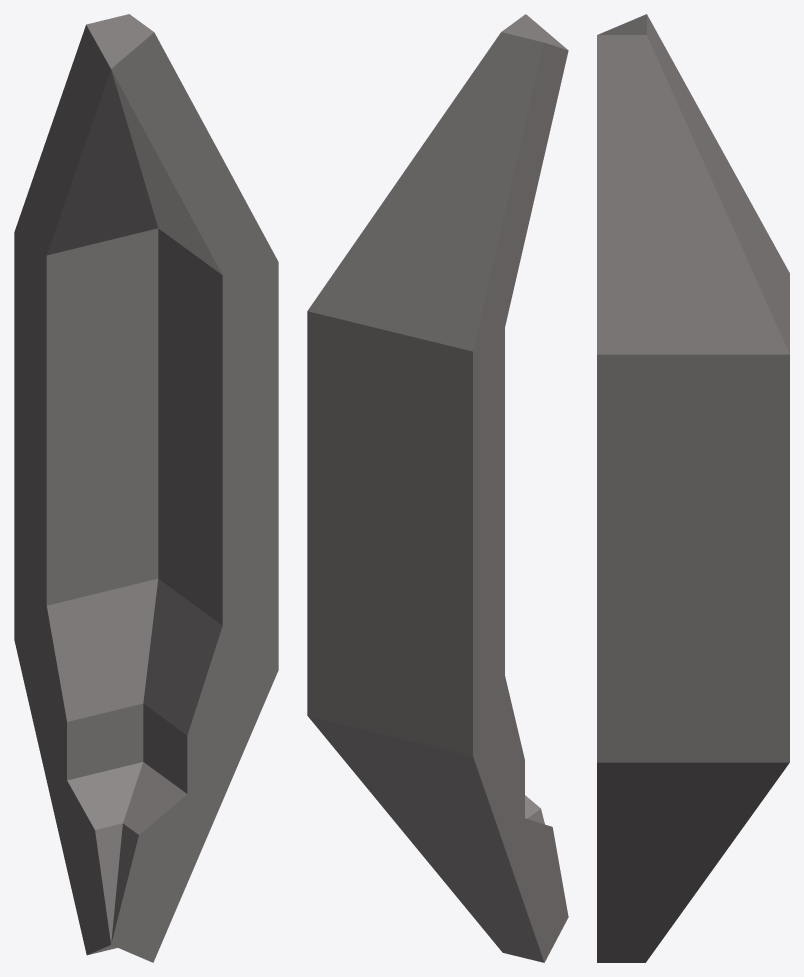
Rendered from scifi-wall-corridor-corner.glb.
The picture shows the model from 3 angles, left to right: view 1: azimuth 30°, elevation 25°; view 2: azimuth 150°, elevation 25°; view 3: azimuth 270°, elevation 25°; orthographic projection.
Visible parts, largest first — view 1: scifi-wall-corridor-corner; view 2: scifi-wall-corridor-corner; view 3: scifi-wall-corridor-corner.
Boxes of the visible parts, x1,y1,x2,y2 form: scifi-wall-corridor-corner: (14,14,278,962); scifi-wall-corridor-corner: (307,14,568,962); scifi-wall-corridor-corner: (597,14,789,962).
Size of the model in its own units: 0.6 by 3.19 by 0.6.
1 material, 1 textured.
